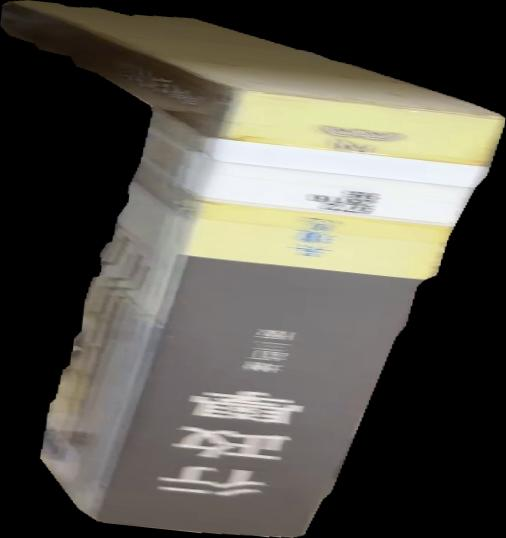reverse: (1, 1, 506, 538)
